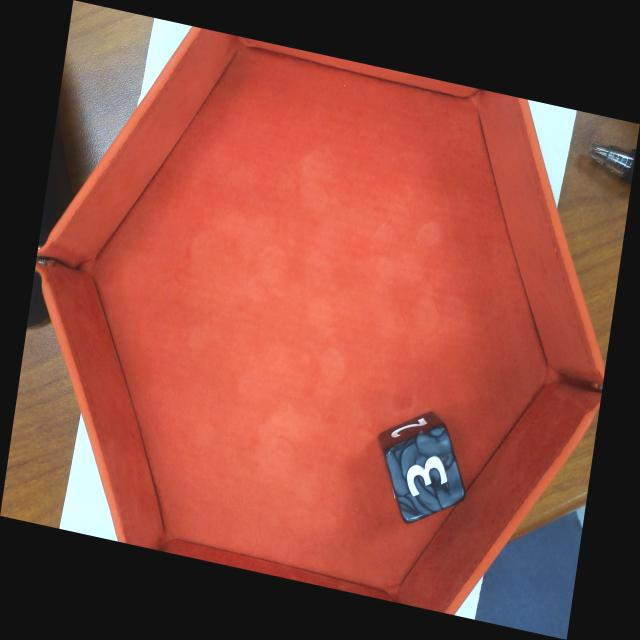dice: (381, 422, 469, 529)
